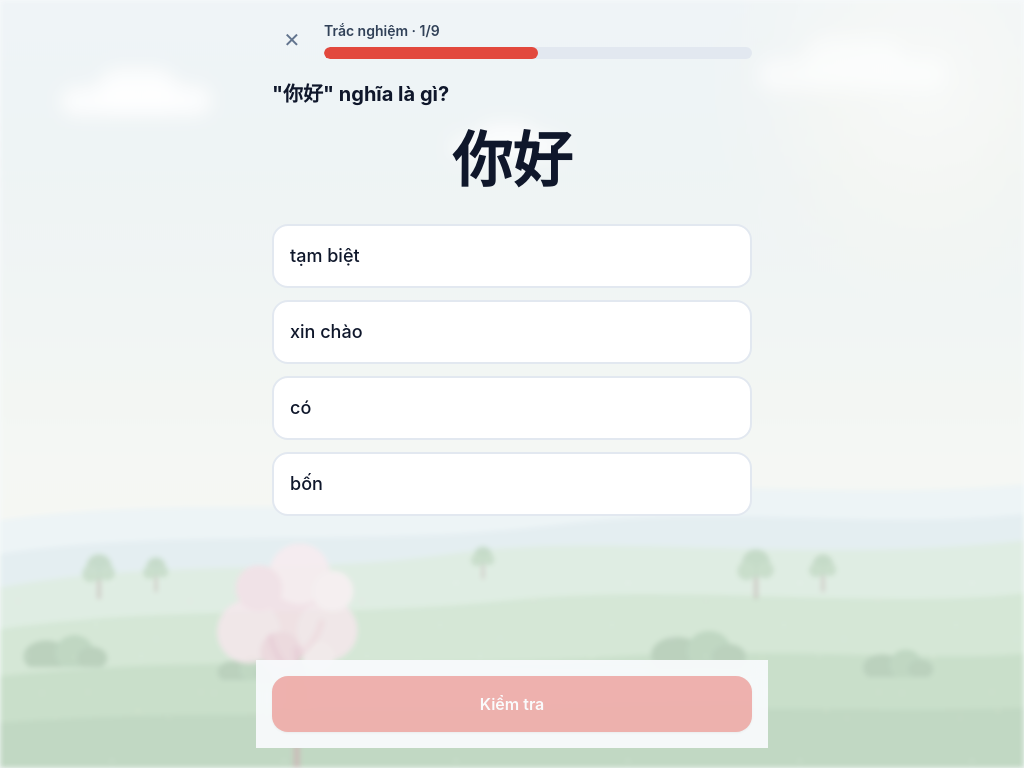
Test case: Bài tập › bài nghe có nút phát âm
This screenshot has width=1024, height=768.
Click the button "xin chào".
click(326, 332)  # box [272,300,752,364]
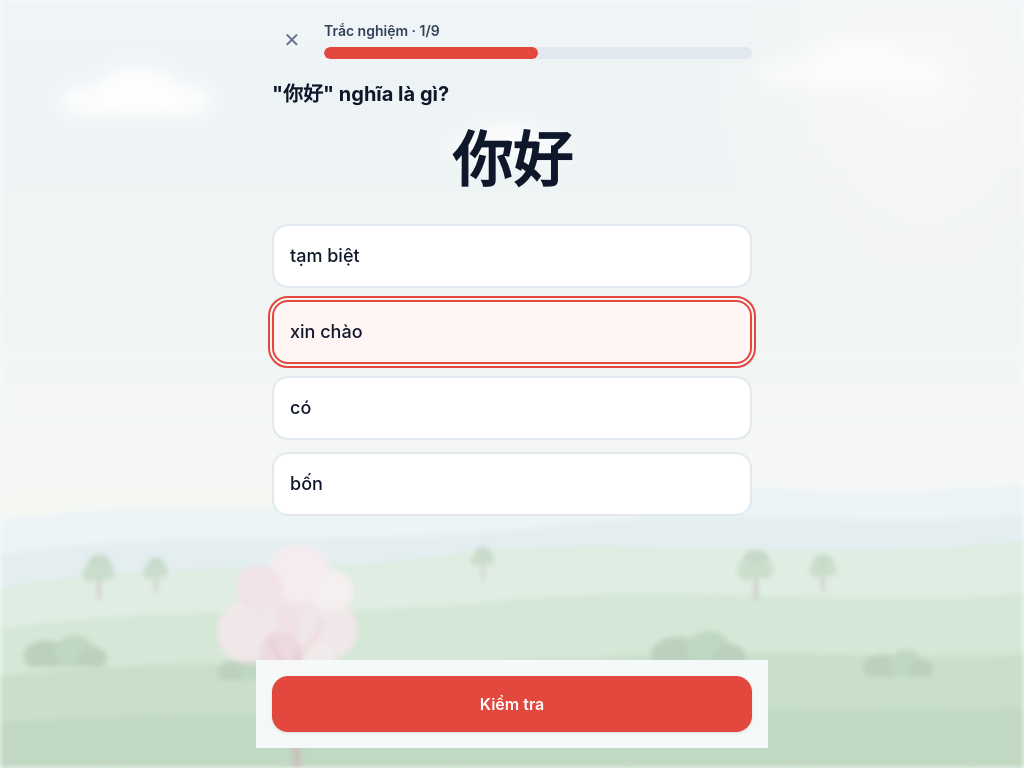
Click the button "Kiểm tra".
click(512, 704)  # box [272,676,752,732]
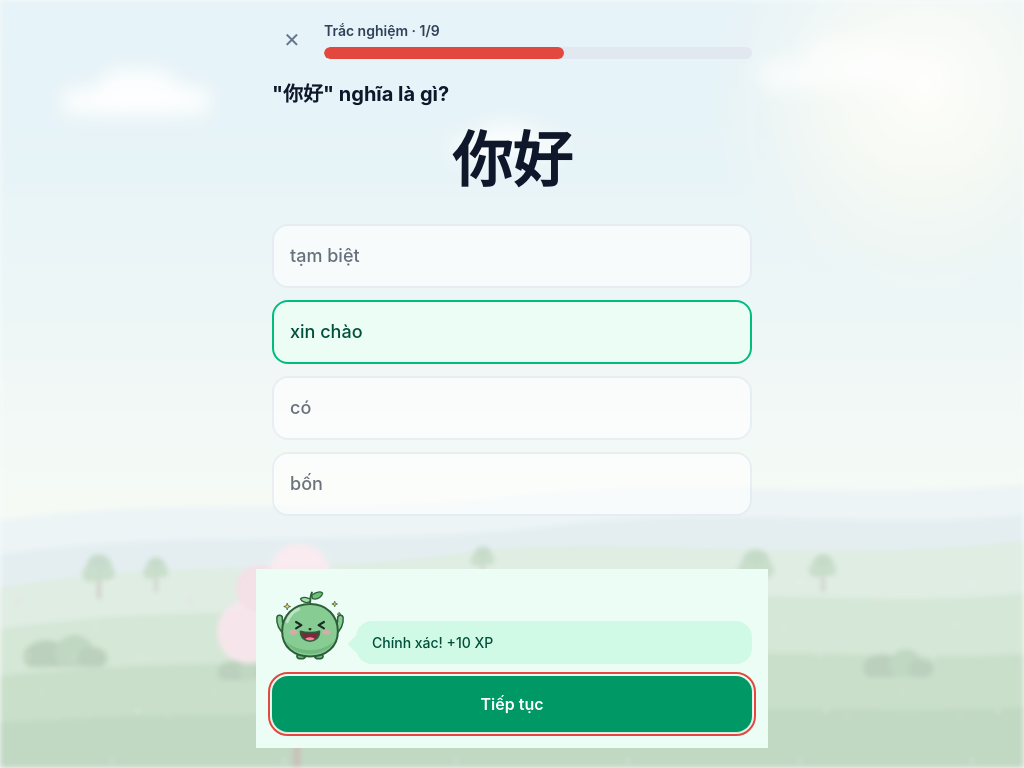
Click the button "Tiếp tục".
click(512, 704)  # box [272,676,752,732]
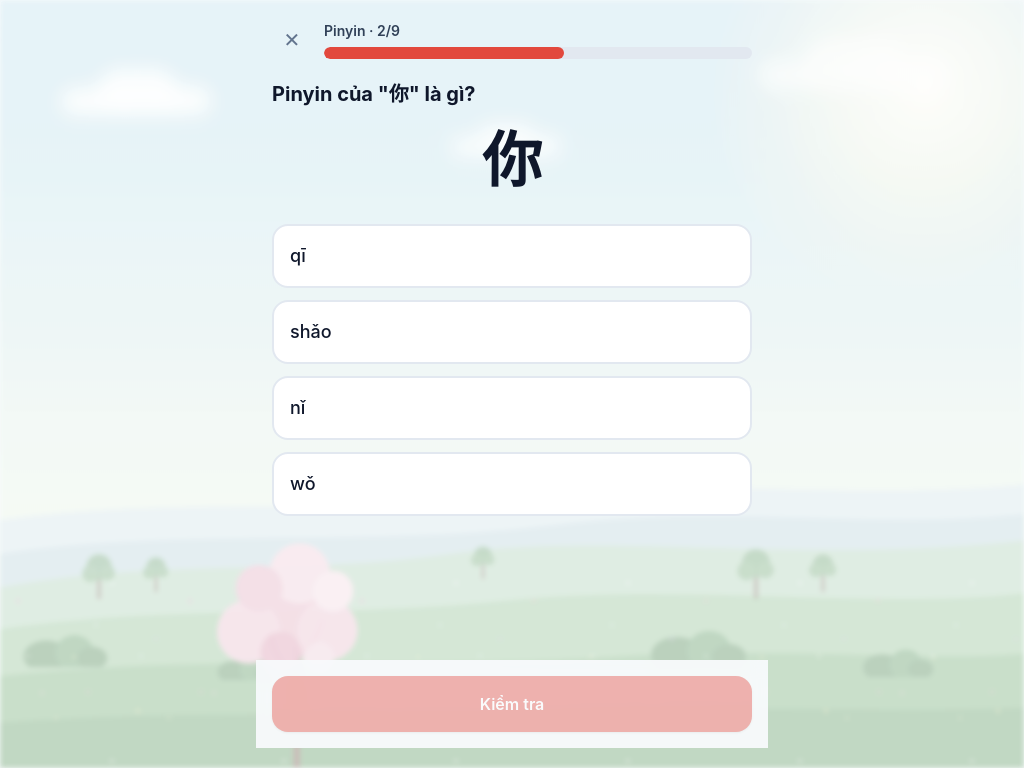
Click the button "nǐ".
click(298, 408)  # box [272,376,752,440]
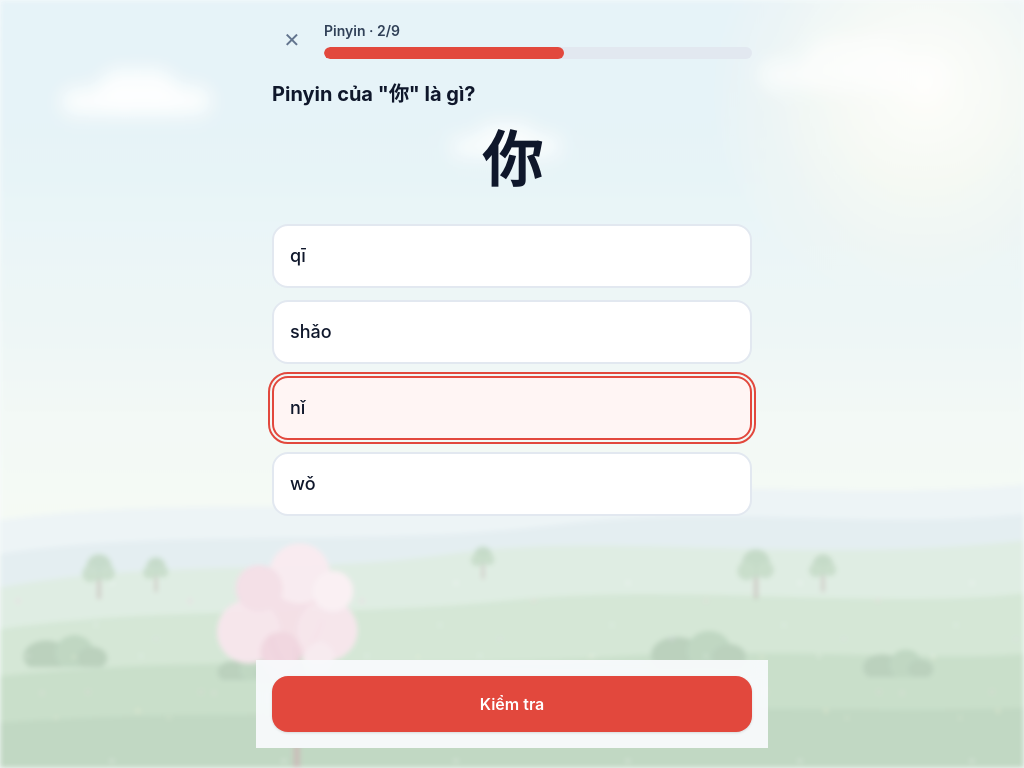
Click the button "Kiểm tra".
click(512, 704)  # box [272,676,752,732]
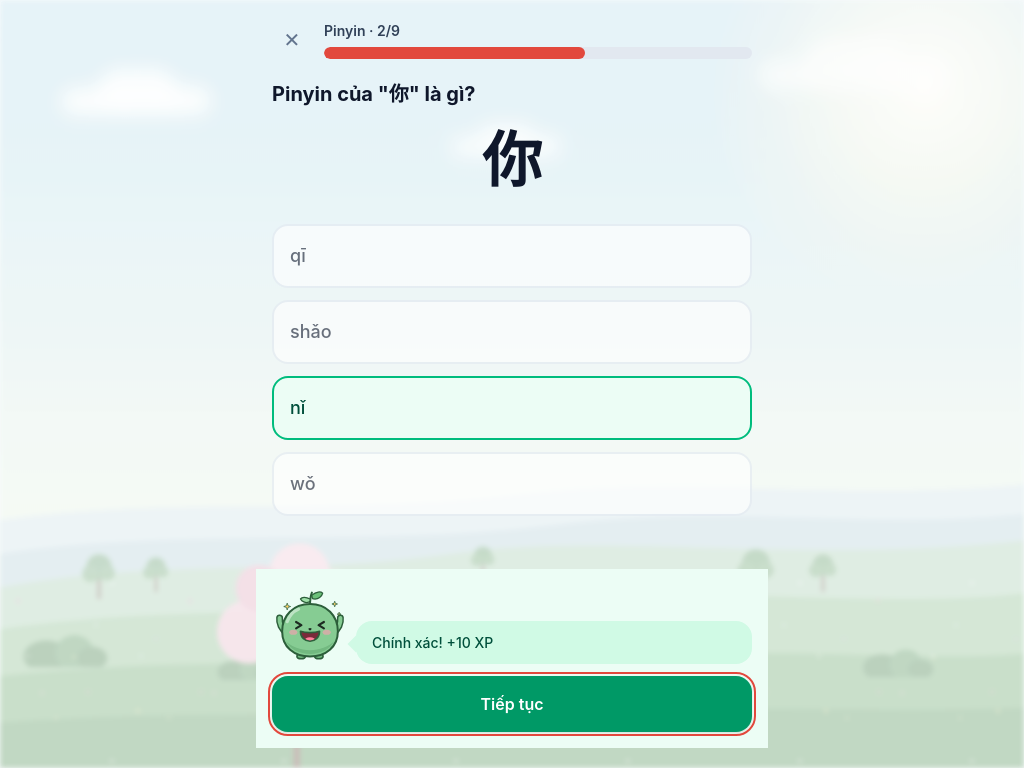
Click the button "Tiếp tục".
click(512, 704)  # box [272,676,752,732]
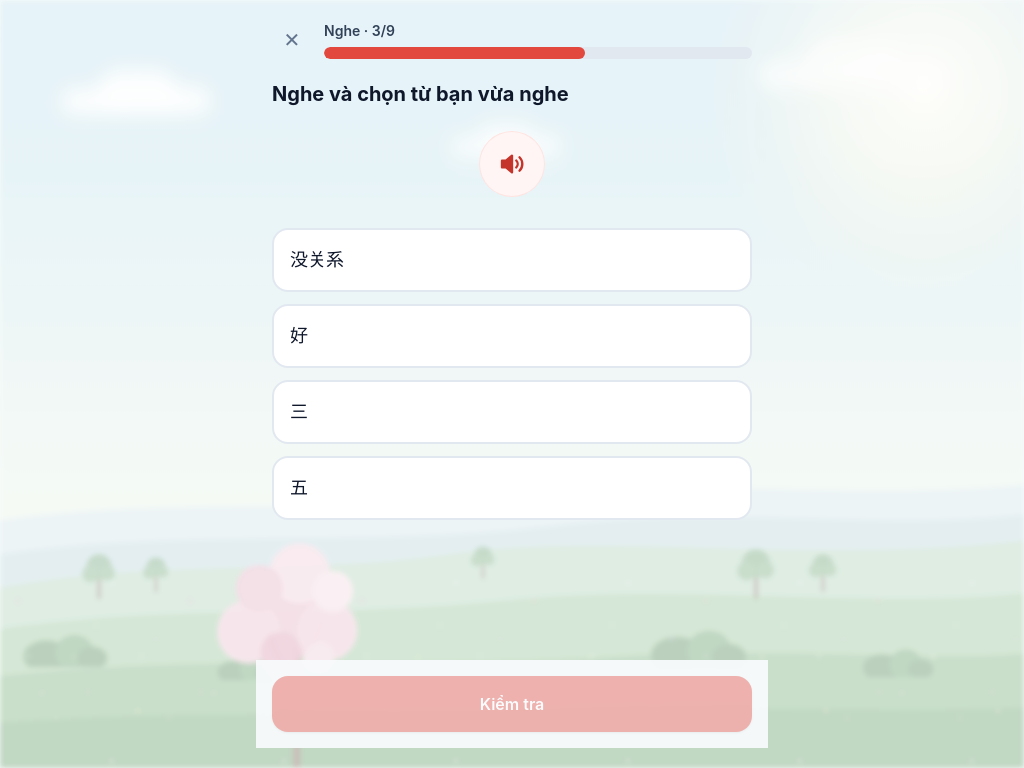
Check: the button named "Nghe phát âm từ trong câu hỏi" is shown, box [480,132,544,196]
